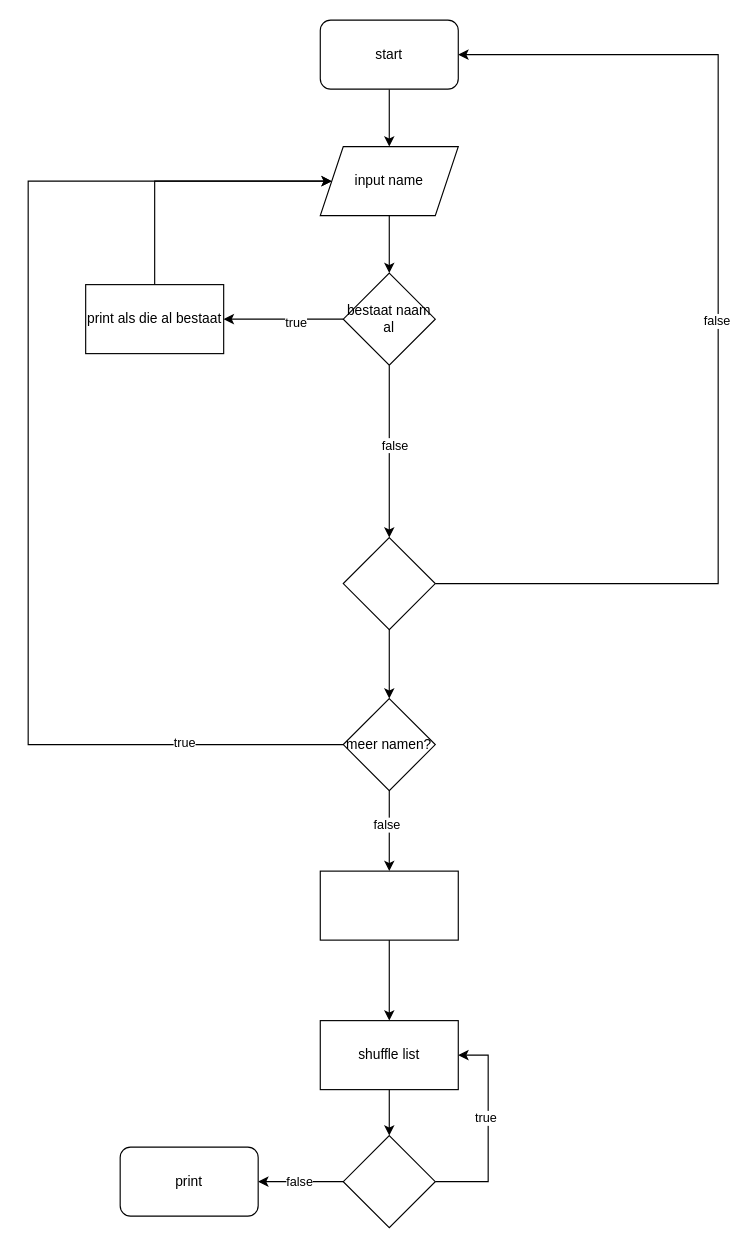
This 750x1248 diagram has some shape labels left out. Here are the shapes that lost their labels. From the top down, the centre of each, then its label:
the point at 388,583: check of er 3 namen zijn
the point at 388,905: list dupliceren
the point at 388,1181: check of dezelfde namen elkaar tegen komen
